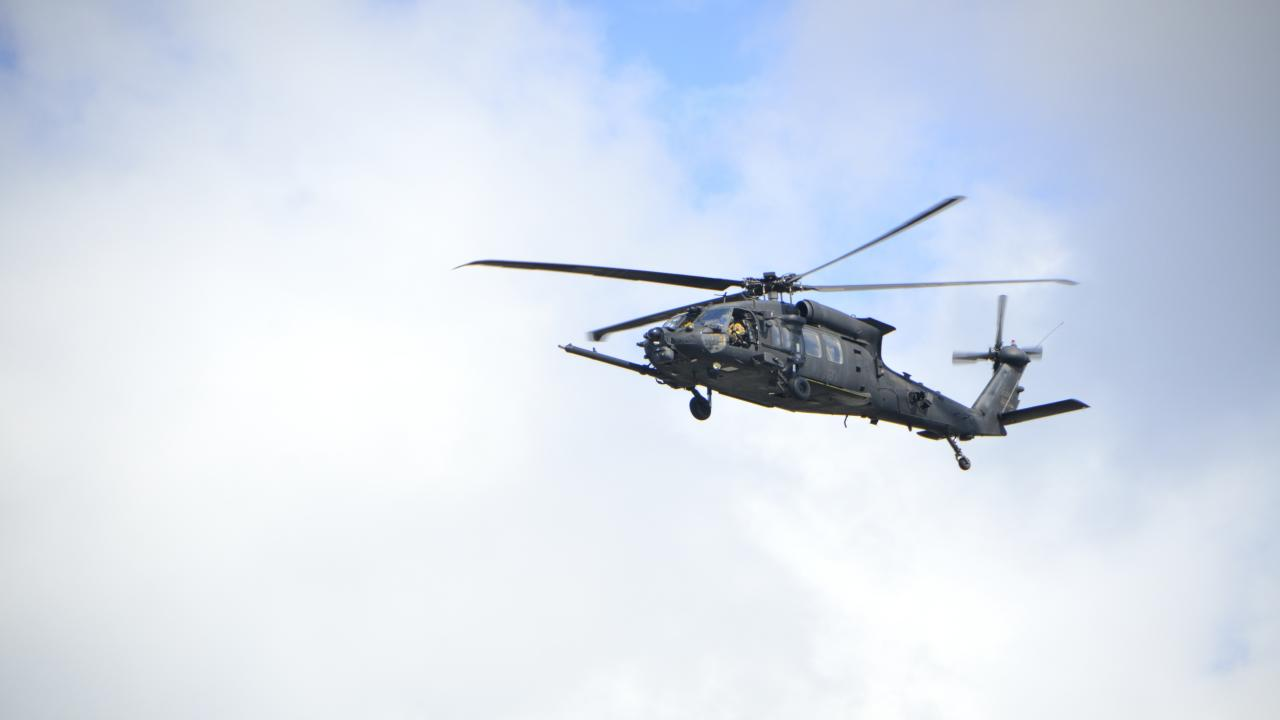Helicopter: (445, 182, 1108, 483)
